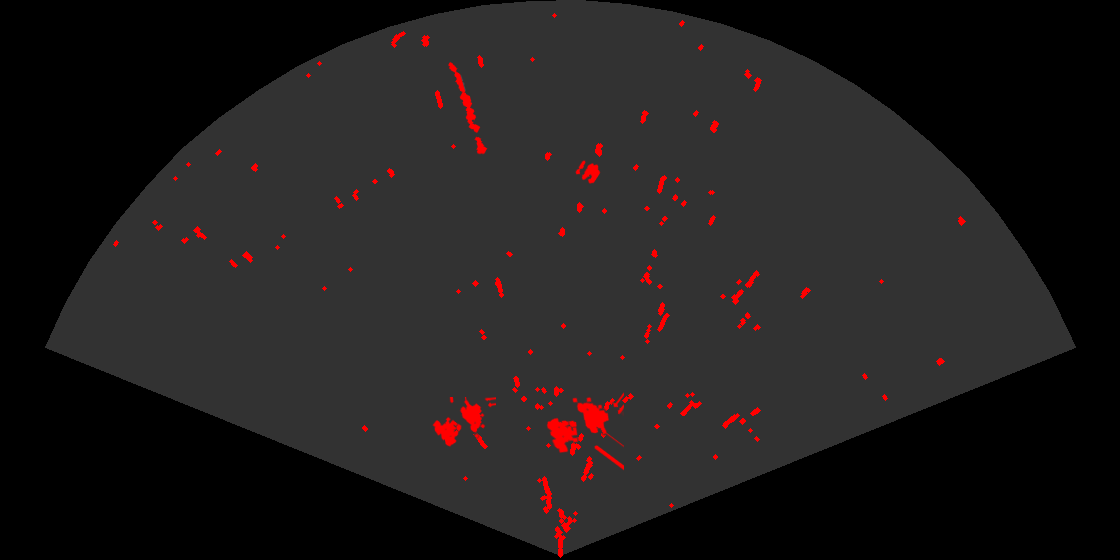ball: (574, 159, 602, 185)
cage: (545, 391, 624, 472), (431, 397, 496, 448)
chain: (447, 60, 489, 156)
